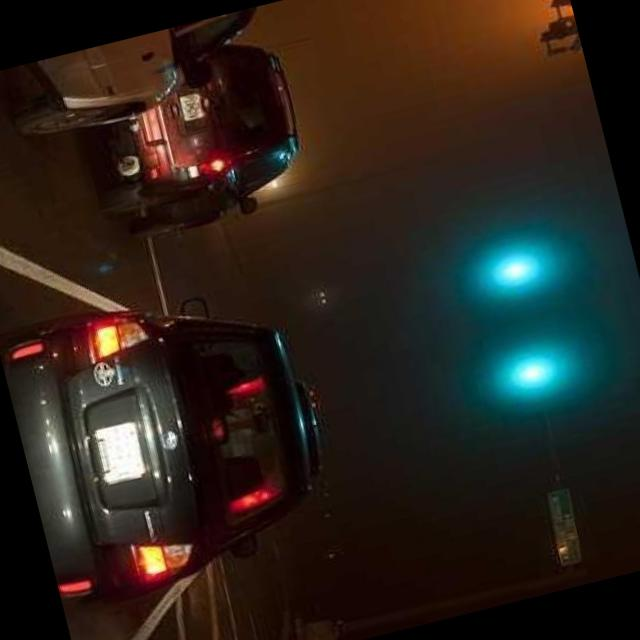green-lights: (467, 212, 578, 312), (484, 328, 596, 412)
